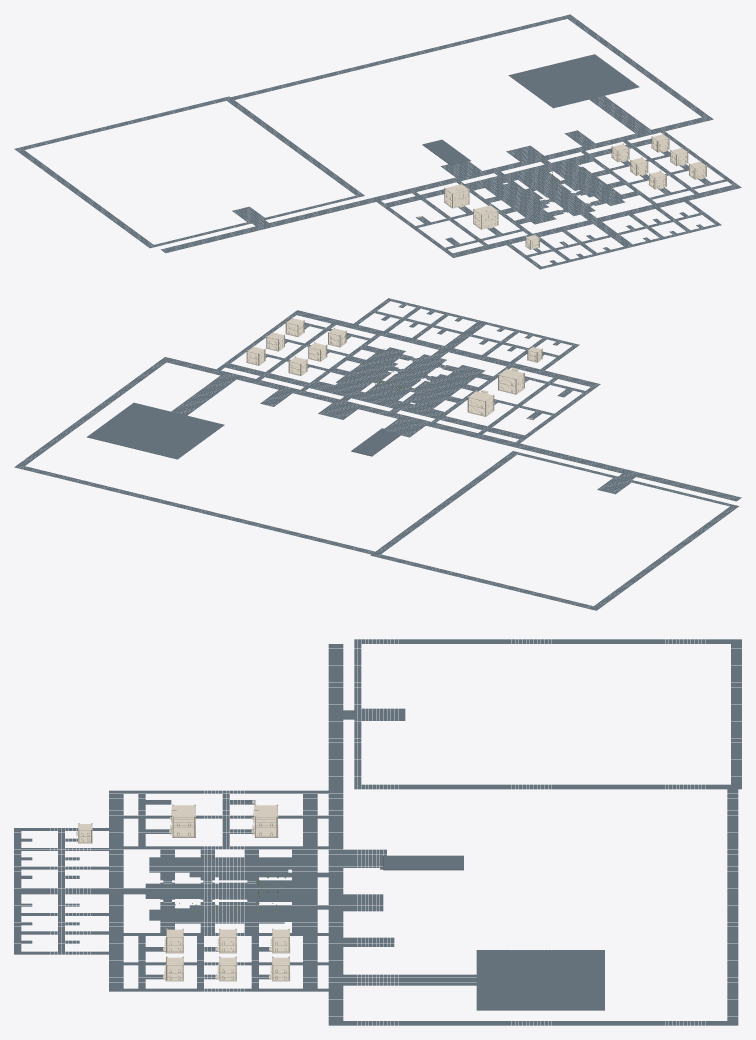
The model's file is Neris-23.glb.
3 renders of one model, top to bottom at view 1: azimuth 30°, elevation 25°; view 2: azimuth 150°, elevation 25°; view 3: azimuth 270°, elevation 25°, orthographic. The views are drawn at different scales.
Visible parts, largest first — view 1: Town Pavinglight, Pale Carved Stone; view 2: Town Pavinglight, Pale Carved Stone; view 3: Town Pavinglight, Pale Carved Stone.
Part boxes in pixels (<box>): Town Pavinglight: <box>14,14,741,269</box>; Pale Carved Stone: <box>417,133,706,249</box>; Town Pavinglight: <box>14,298,741,610</box>; Pale Carved Stone: <box>246,317,542,419</box>; Town Pavinglight: <box>14,639,741,1025</box>; Pale Carved Stone: <box>76,800,290,981</box>.
Size of the model in its own units: 500 by 14.92 by 398.
Materials: 4 (1 with a texture image).
